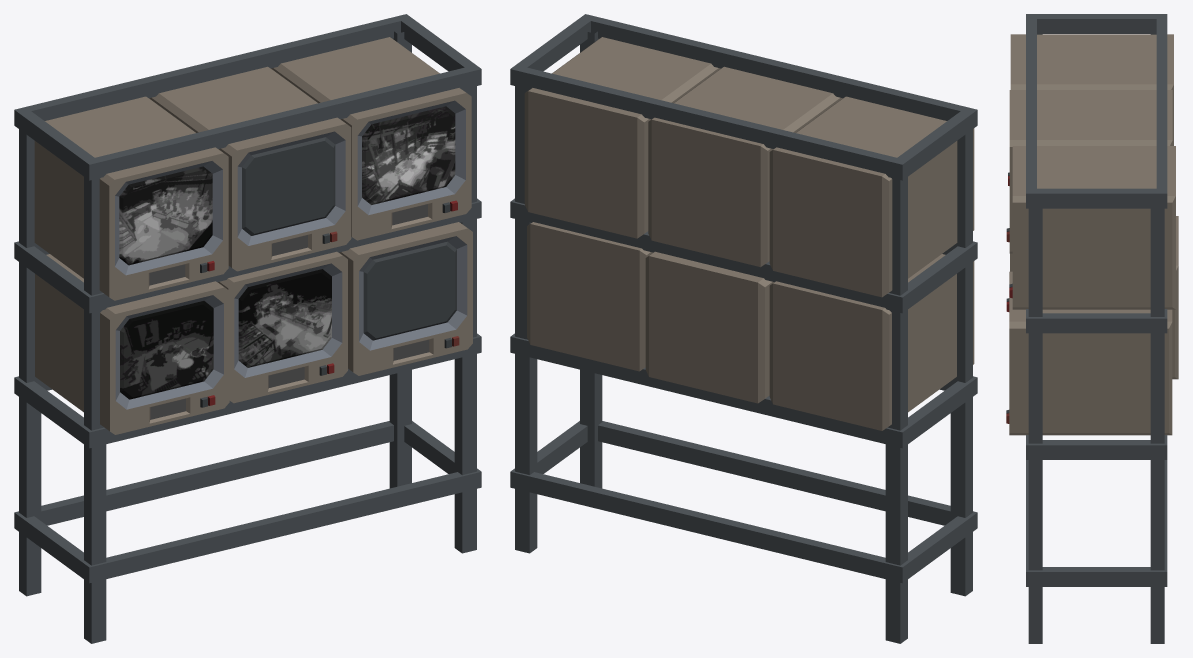
The model's file is SM_Prop_Security_Monitors_01.obj.
The picture shows the model from 3 angles, left to right: view 1: azimuth 30°, elevation 25°; view 2: azimuth 150°, elevation 25°; view 3: azimuth 270°, elevation 25°; orthographic projection. The views are drawn at different scales.
Visible parts, largest first — view 1: SM_Prop_Security_Monitors_01_0; view 2: SM_Prop_Security_Monitors_01_0; view 3: SM_Prop_Security_Monitors_01_0.
Part boxes in pixels (x1=…): SM_Prop_Security_Monitors_01_0: x1=14, y1=14, x2=481, y2=643; SM_Prop_Security_Monitors_01_0: x1=510, y1=14, x2=977, y2=643; SM_Prop_Security_Monitors_01_0: x1=1006, y1=14, x2=1178, y2=643.
Bounding box in the file's own units: 1.35 × 1.58 × 0.5461.
1 material, 1 textured.
